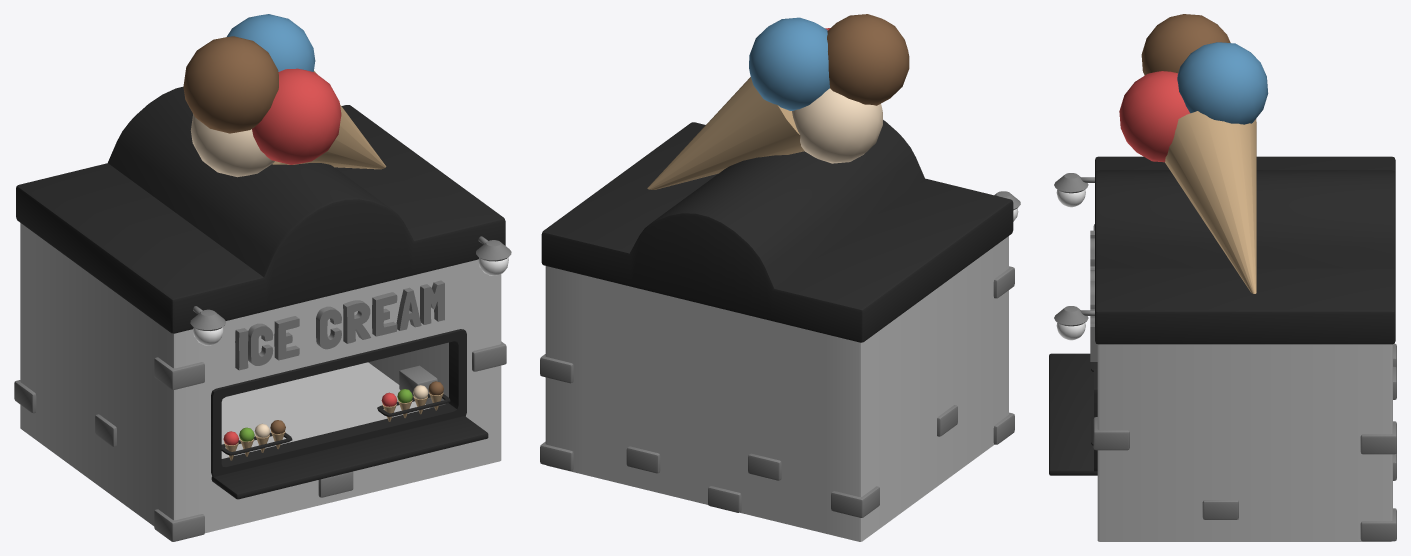
The model's file is SM_icecream_shop.fbx.
3 renders of one model, left to right at view 1: azimuth 30°, elevation 25°; view 2: azimuth 150°, elevation 25°; view 3: azimuth 270°, elevation 25°, orthographic. The views are drawn at different scales.
Parts seen in each view (by area): view 1: Box224; view 2: Box224; view 3: Box224.
Part boxes in pixels (left/top/right/bottom): Box224: left=14, top=14, right=511, bottom=541; Box224: left=540, top=14, right=1020, bottom=541; Box224: left=1049, top=14, right=1396, bottom=541.
Size of the model in its own units: 218 by 272 by 205.
